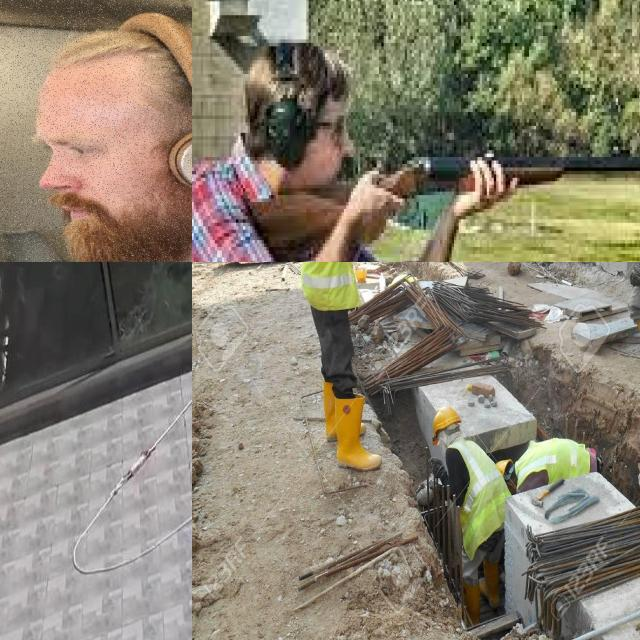Ear-protection: (0, 2, 192, 262), (249, 44, 320, 176)
Harness: (120, 397, 192, 486)
boots: (329, 389, 390, 475)
hand_glove: (629, 262, 640, 287)
head_helmet: (425, 400, 462, 430), (493, 452, 514, 479)
person: (424, 402, 510, 620), (307, 262, 386, 478), (491, 443, 612, 506)
shoes: (478, 557, 502, 610)
vest: (455, 447, 503, 546), (523, 439, 592, 487), (308, 262, 356, 306)
